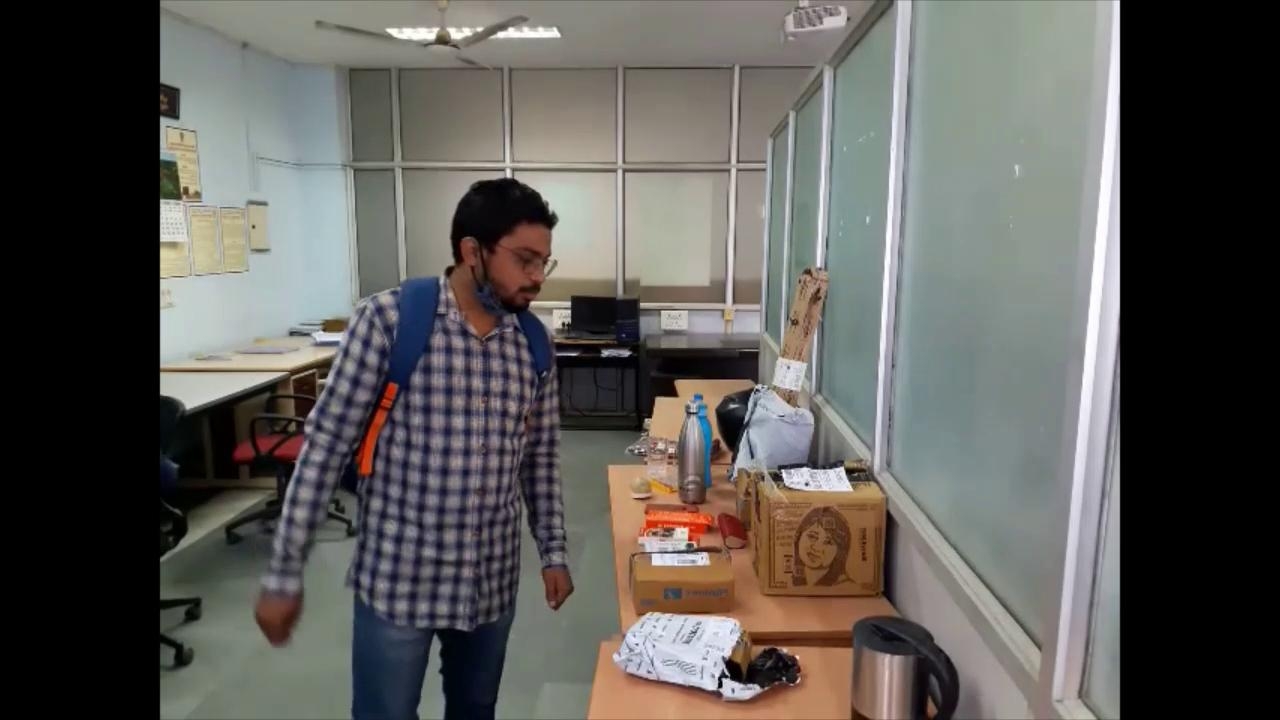Normal: (250, 175, 578, 719)
